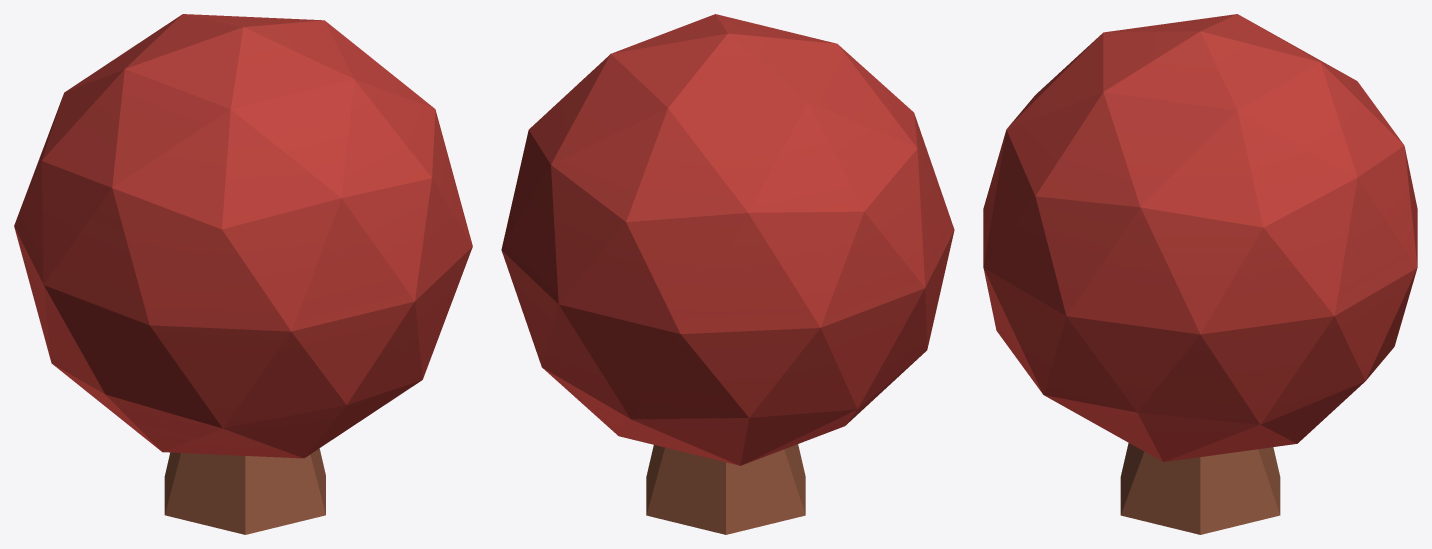
Rendered from Bush_2_gradient_red.fbx.
The picture shows the model from 3 angles, left to right: view 1: azimuth 30°, elevation 25°; view 2: azimuth 150°, elevation 25°; view 3: azimuth 270°, elevation 25°; orthographic projection.
Visible parts, largest first — view 1: Bush_2_gradient_red; view 2: Bush_2_gradient_red; view 3: Bush_2_gradient_red.
Part boxes in pixels (x1,y1,x2,y2): Bush_2_gradient_red: [14, 14, 472, 534]; Bush_2_gradient_red: [501, 14, 954, 534]; Bush_2_gradient_red: [983, 14, 1417, 534].
Size of the model in its own units: 35.19 by 39.46 by 33.47.
